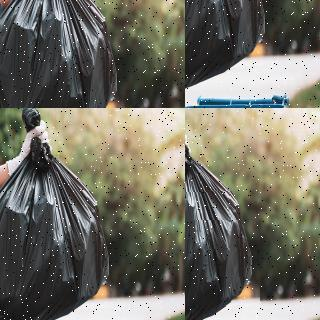Garbage: (185, 108, 259, 320), (1, 191, 21, 217)
